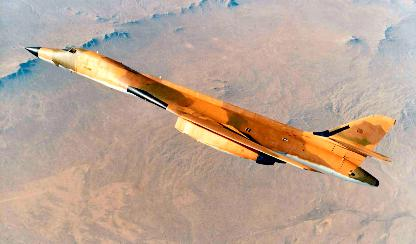AV8B: (19, 44, 397, 188)
